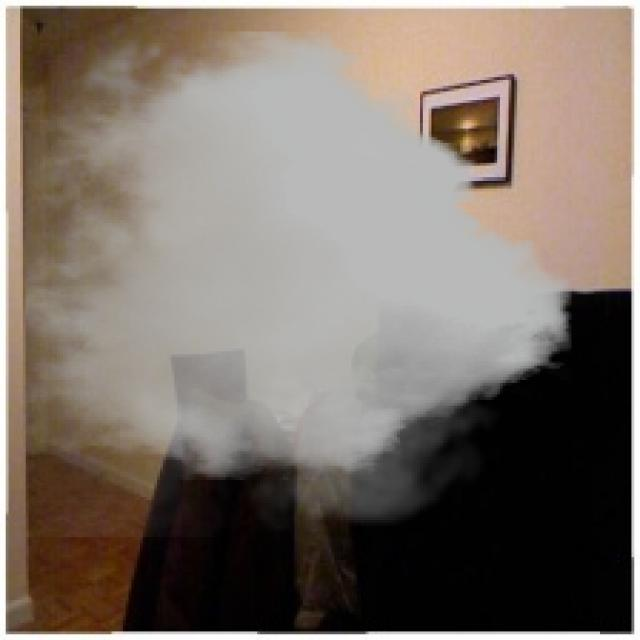smoke: (26, 23, 571, 537)
